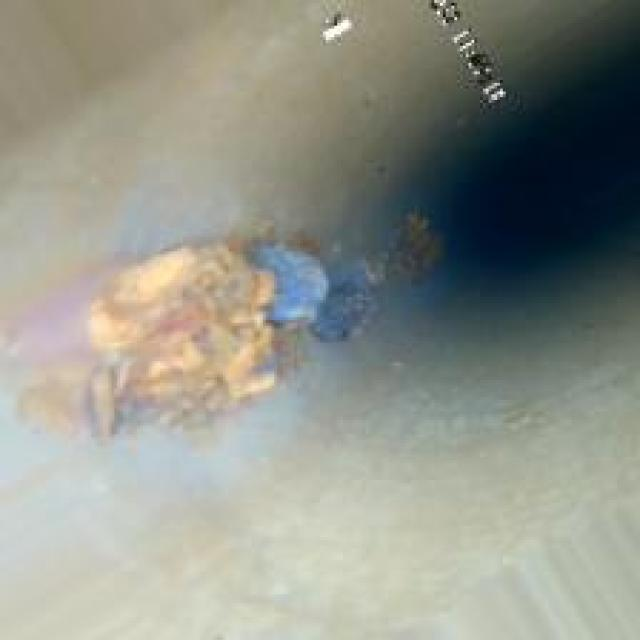stone: (60, 203, 451, 408)
